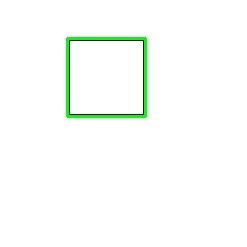line_segment: (66, 37, 147, 118)
